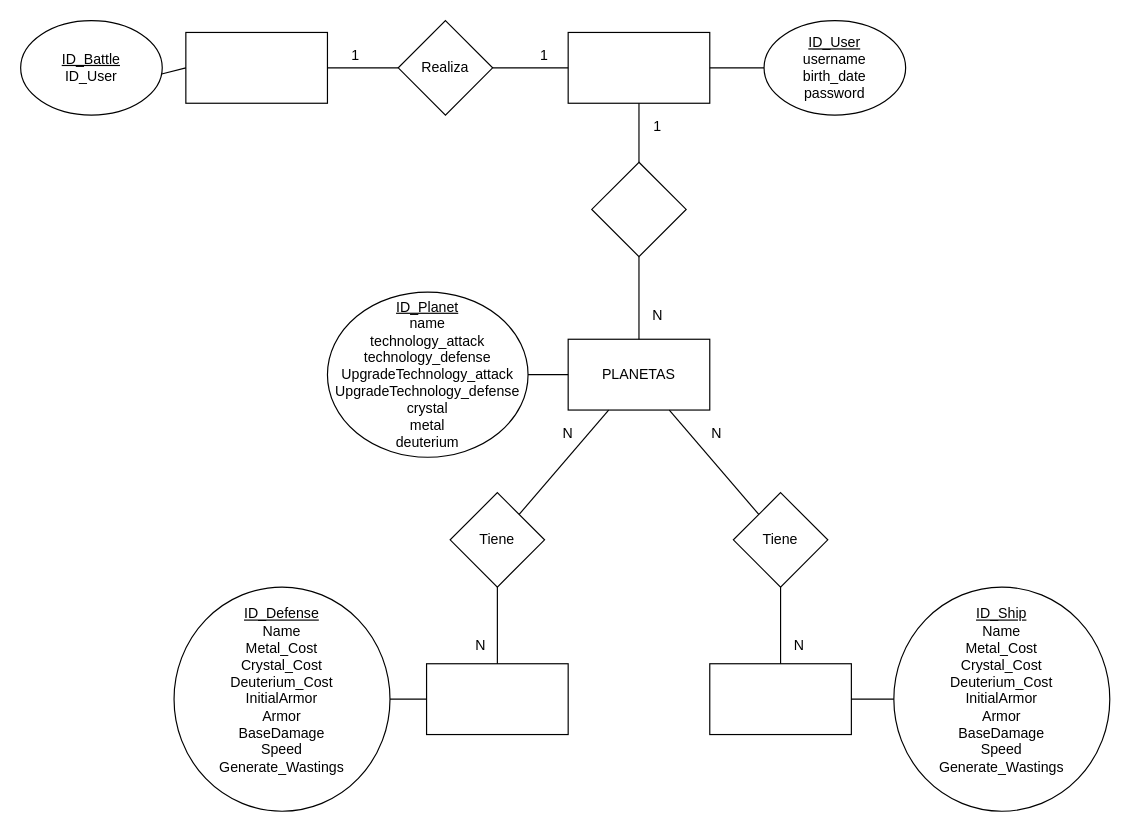
This 1130x832 diagram has some shape labels left out. Each missing label, with the centre of its shape:
"BATTLE" belongs at (x=256, y=67).
"DEFENSAS" belongs at (x=496, y=699).
"Disposición" belongs at (x=638, y=209).
"NAVES" belongs at (x=780, y=699).
"USERS" belongs at (x=638, y=67).
